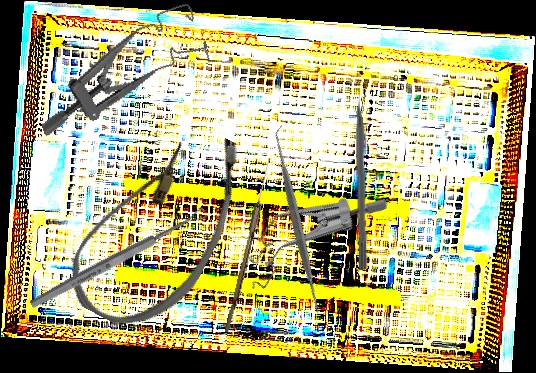Cannula: (55, 101, 263, 349)
Pusher: (354, 79, 370, 270)
Spatula Surgical: (199, 125, 395, 320)
Speculum: (228, 151, 392, 326), (19, 1, 218, 138)
Surgical Spoon: (28, 206, 209, 311), (224, 156, 273, 334)
